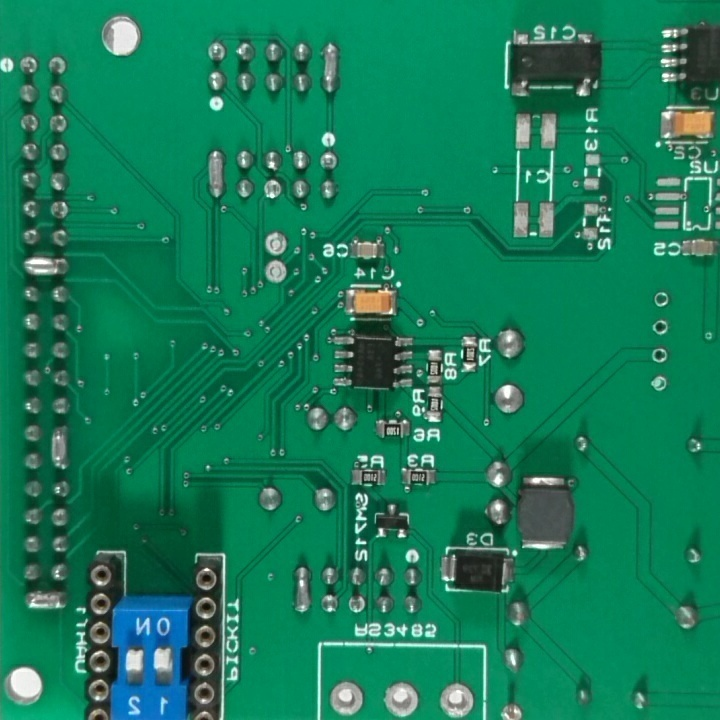F: (327, 672, 367, 720), (381, 674, 422, 720), (435, 678, 476, 720), (261, 227, 289, 260), (201, 35, 227, 68), (263, 260, 290, 288), (344, 591, 369, 620), (493, 699, 527, 720), (317, 147, 341, 175), (261, 175, 283, 205), (649, 287, 673, 312), (648, 344, 673, 368), (647, 372, 671, 397), (18, 52, 41, 78), (48, 197, 70, 223), (648, 317, 672, 340), (19, 110, 39, 137)
P: (202, 146, 229, 206), (321, 37, 345, 98), (20, 254, 71, 281), (290, 560, 312, 619), (21, 589, 70, 615), (49, 421, 73, 472)
